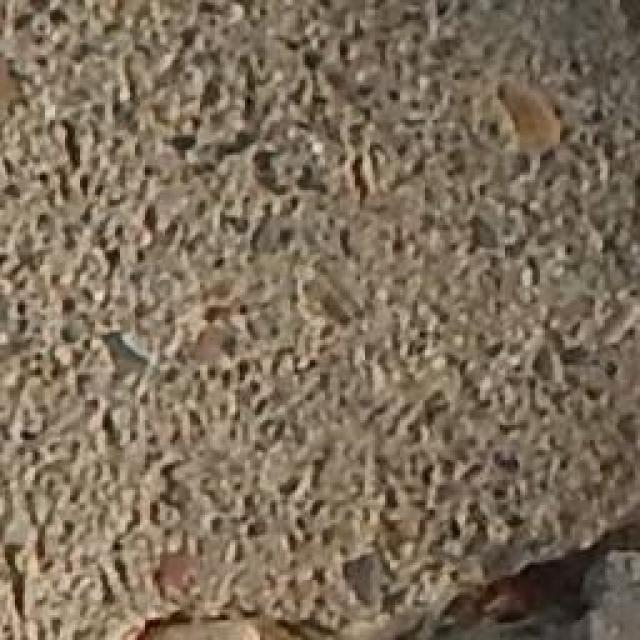concrete-crack: (113, 482, 640, 640)
